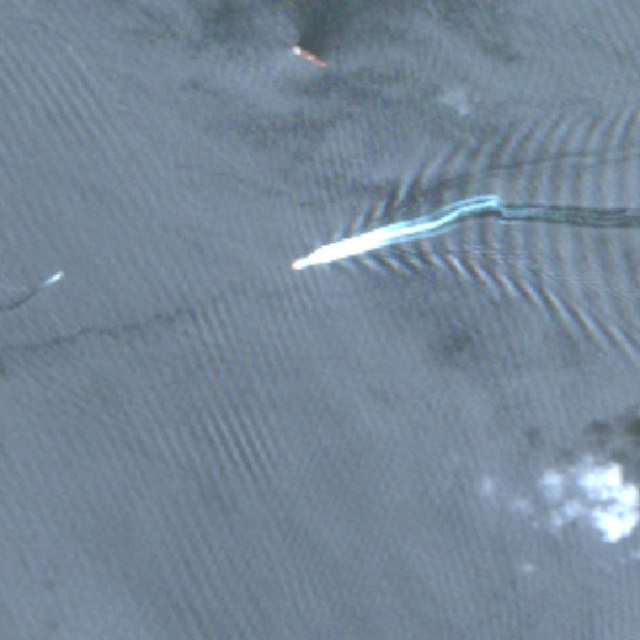wake: (252, 123, 582, 328)
